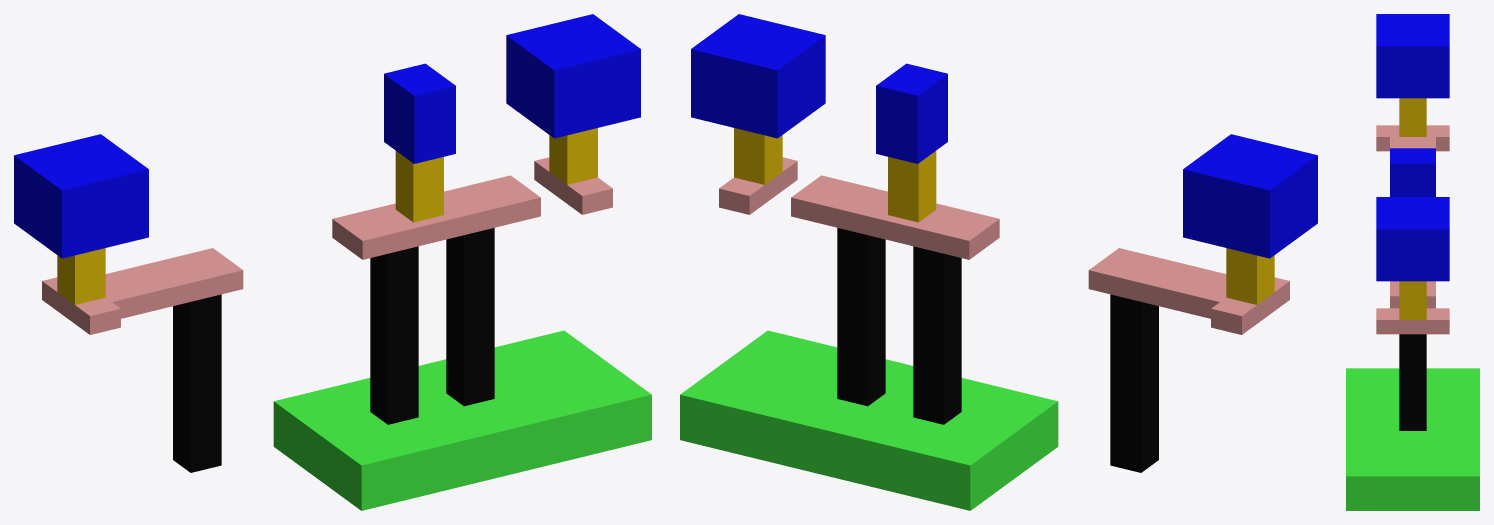
File: sky130_fd_sc_hd__tapvgnd2_1.obj
3 views of the same model, side by side, from view 1: azimuth 30°, elevation 25°; view 2: azimuth 150°, elevation 25°; view 3: azimuth 270°, elevation 25° (orthographic). The views are drawn at different scales.
Parts seen in each view (by area): view 1: nwell, metal1, licon, li, mcon; view 2: nwell, metal1, licon, li, mcon; view 3: nwell, metal1, li, licon, mcon.
Boxes of the visible parts, bbox=[...] form: nwell: bbox=[273, 330, 651, 510]; metal1: bbox=[14, 14, 640, 258]; licon: bbox=[173, 228, 494, 472]; li: bbox=[42, 157, 612, 334]; mcon: bbox=[57, 128, 597, 304]; nwell: bbox=[680, 330, 1058, 510]; metal1: bbox=[691, 14, 1317, 258]; licon: bbox=[837, 228, 1158, 472]; li: bbox=[719, 157, 1289, 334]; mcon: bbox=[734, 128, 1274, 304]; nwell: bbox=[1346, 368, 1479, 510]; metal1: bbox=[1376, 14, 1449, 281]; li: bbox=[1376, 125, 1449, 334]; licon: bbox=[1399, 334, 1426, 430]; mcon: bbox=[1399, 98, 1426, 319].
Bounding box in the file's own units: 3.2 × 1.98 × 0.84.
